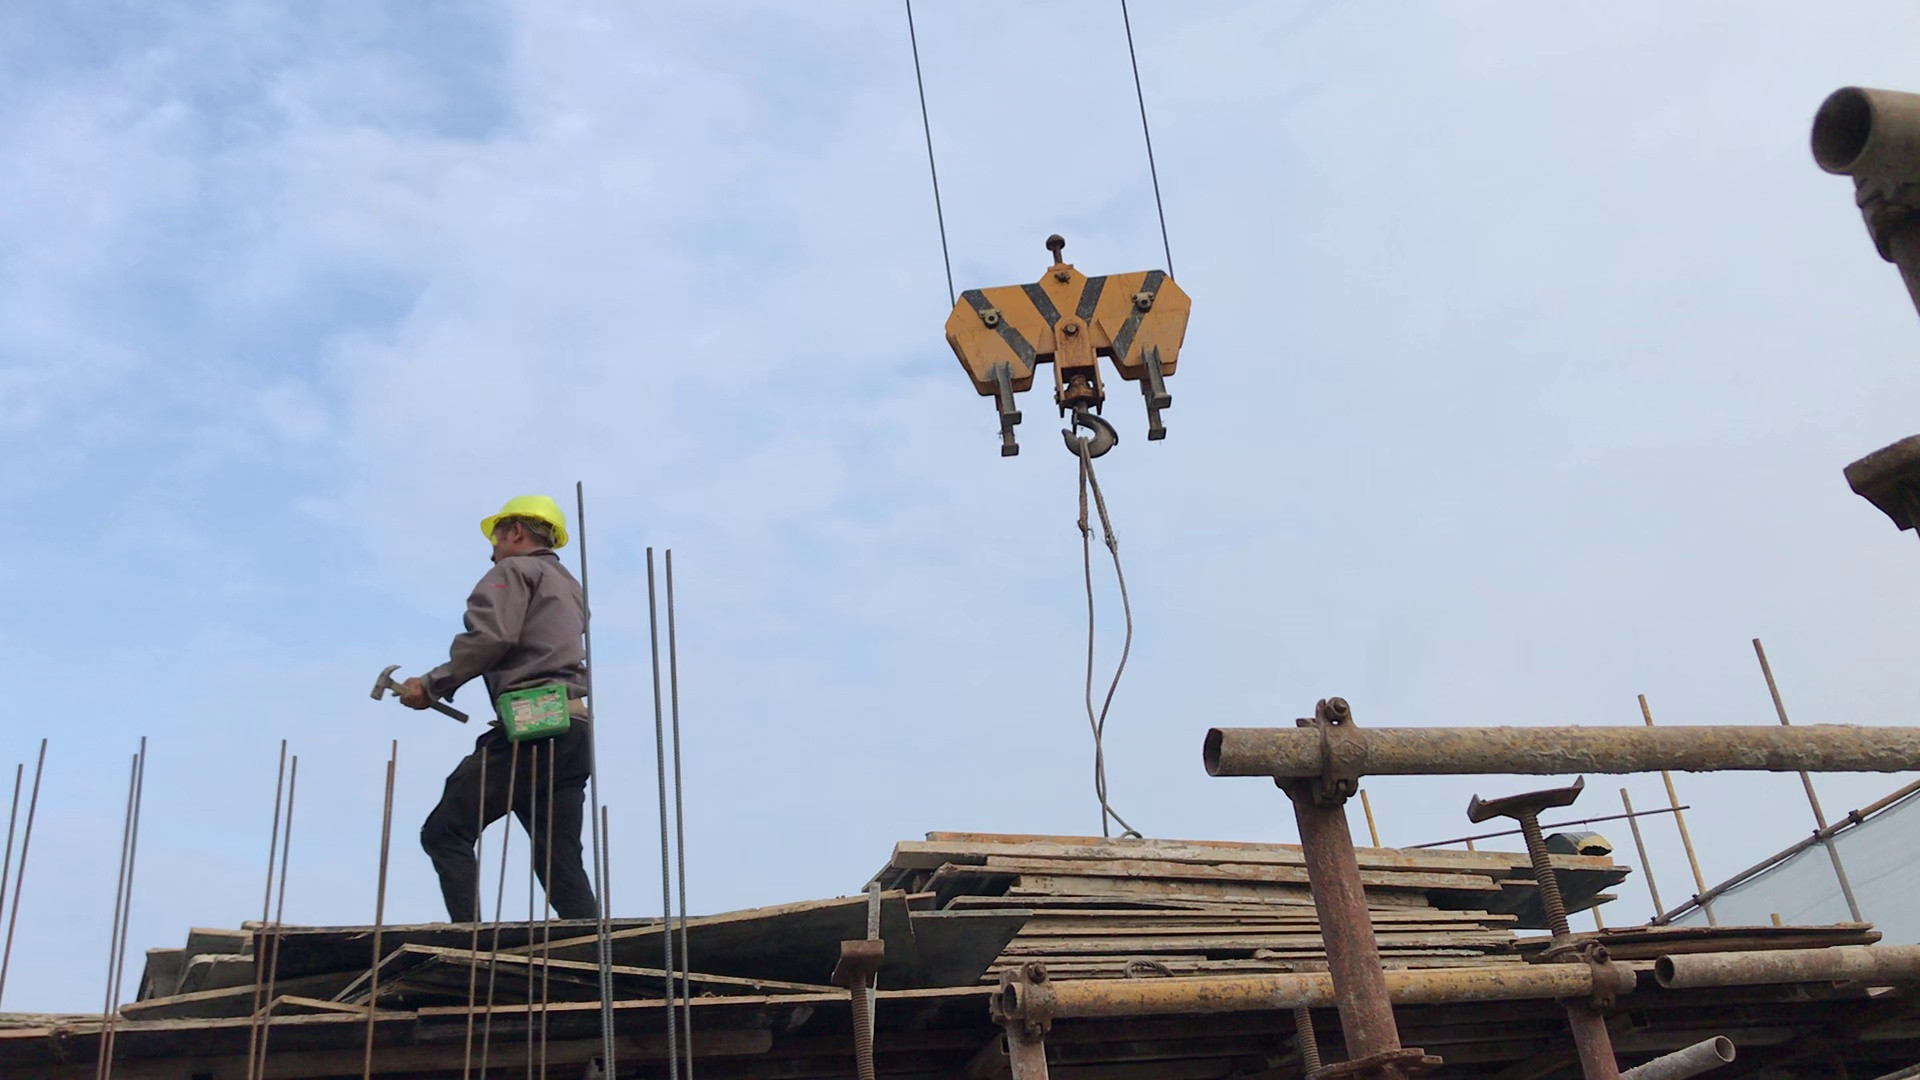board: (887, 815, 1585, 967)
helmet: (469, 487, 577, 549)
hook: (941, 229, 1204, 456)
person: (352, 482, 641, 922)
